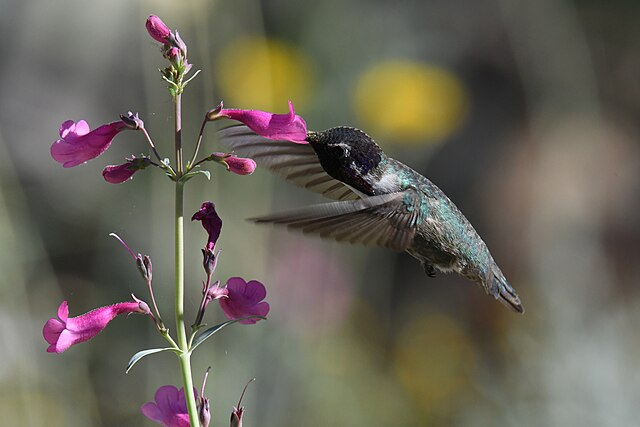calypte costae: (217, 123, 524, 313)
